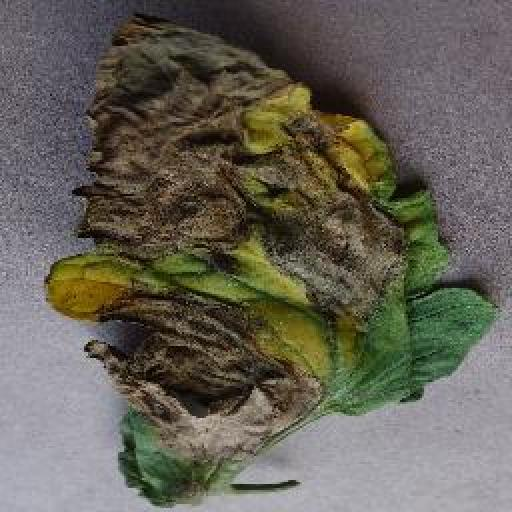disease_tomato: (42, 13, 494, 512)
